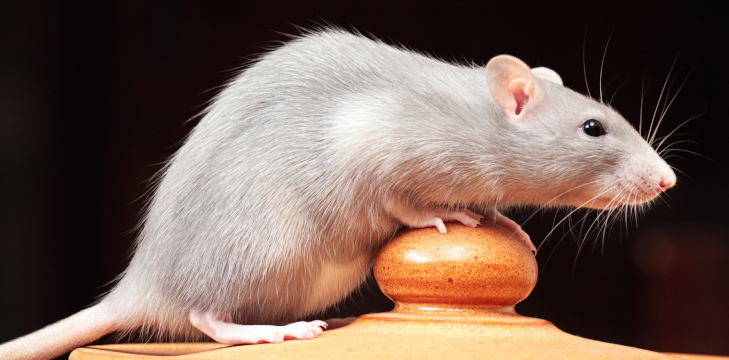rat: (85, 15, 686, 348)
